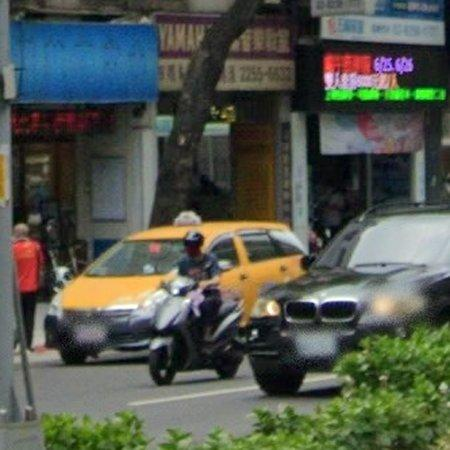taxis: (45, 212, 308, 364)
